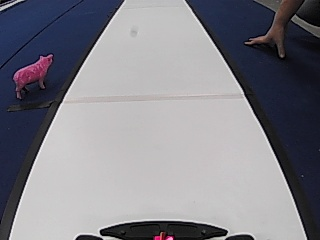pig: (10, 52, 54, 100)
